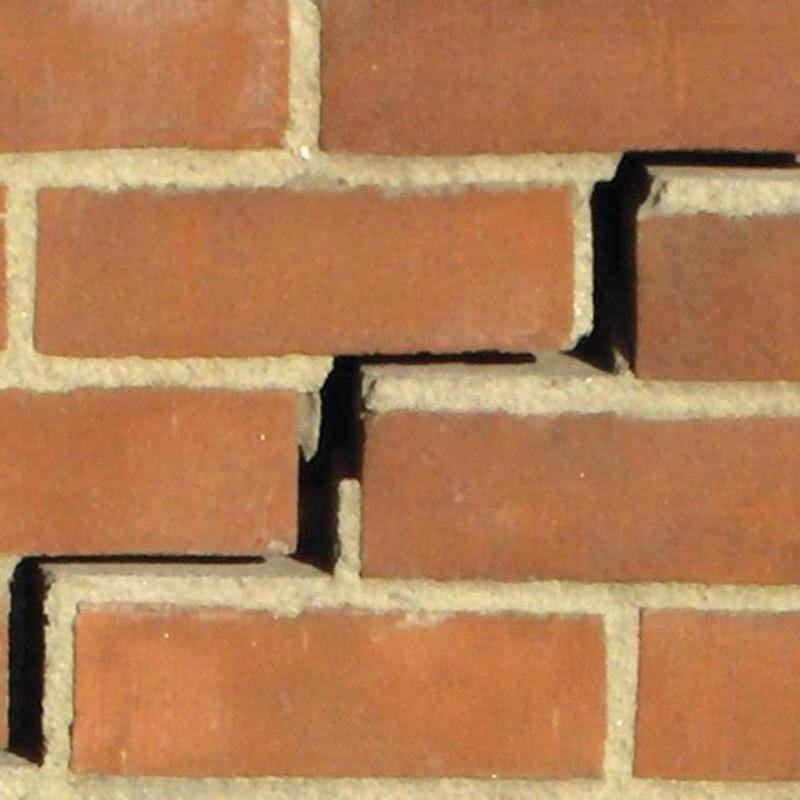crack: (6, 555, 264, 763), (292, 353, 534, 571), (567, 152, 799, 372)
